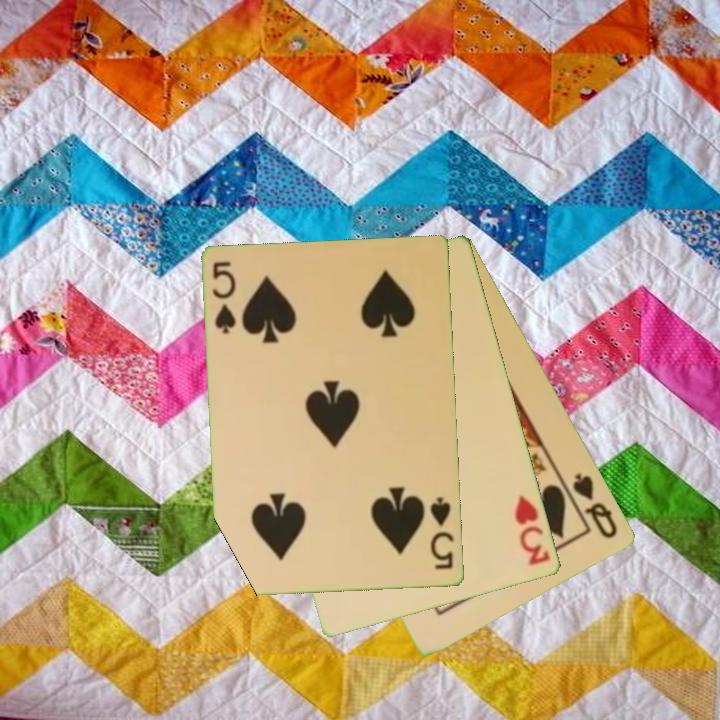3h: (511, 492, 554, 569)
5s: (209, 258, 240, 337), (427, 494, 457, 573)
Qs: (569, 470, 621, 542)
